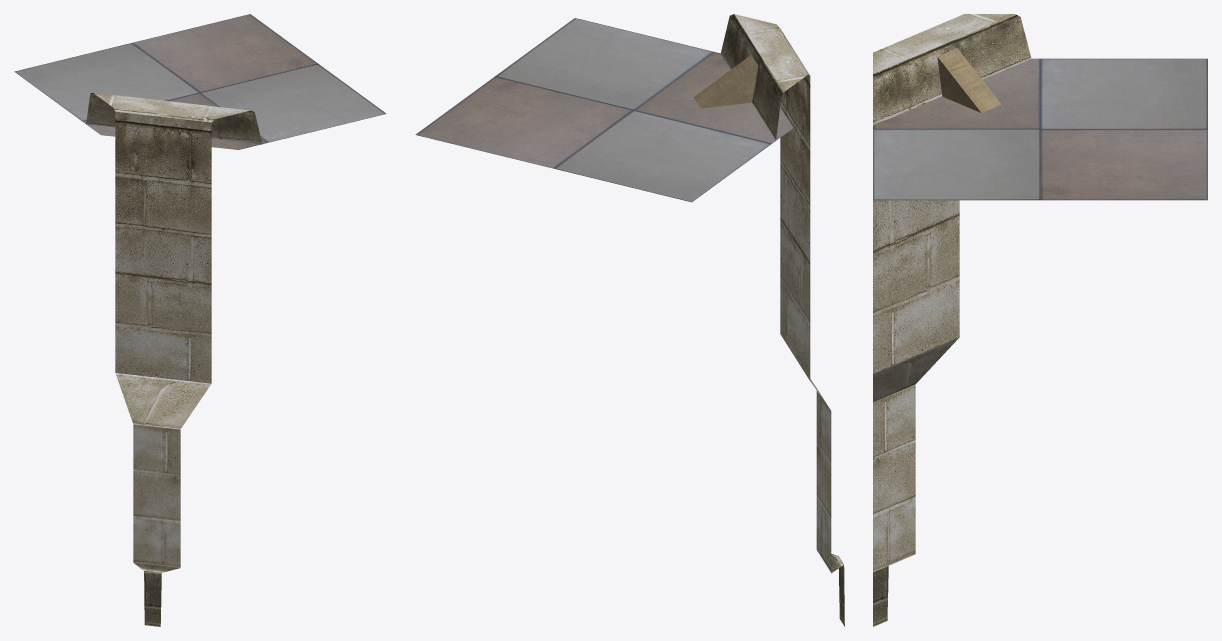
Rendered from castle-wall-45d-2.fbx.
3 views of the same model, side by side, from view 1: azimuth 30°, elevation 25°; view 2: azimuth 150°, elevation 25°; view 3: azimuth 270°, elevation 25° (orthographic). The views are drawn at different scales.
Parts seen in each view (by area): view 1: castle-wall-45d-2; view 2: castle-wall-45d-2; view 3: castle-wall-45d-2.
Part boxes in pixels (left/top/right/bottom): castle-wall-45d-2: left=14, top=14, right=386, bottom=626; castle-wall-45d-2: left=415, top=14, right=844, bottom=626; castle-wall-45d-2: left=873, top=14, right=1207, bottom=626.
Size of the model in its own units: 200 by 400 by 200.
